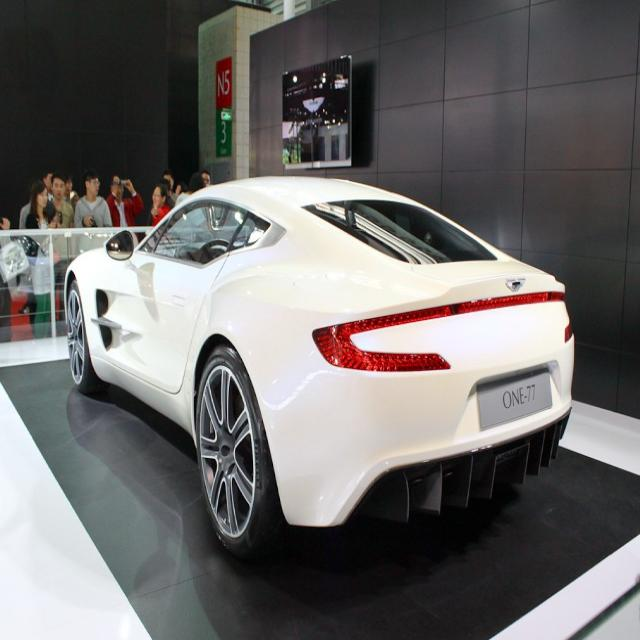back_glass: (304, 197, 500, 269)
back_left_side_light: (312, 302, 456, 375)
back_right_side_light: (548, 288, 574, 340)
front_left_side_door: (109, 191, 245, 403)
front_left_side_mirror: (102, 225, 137, 264)
rear_bumper: (265, 312, 575, 532)
wheel: (196, 347, 276, 558), (67, 282, 99, 393)
